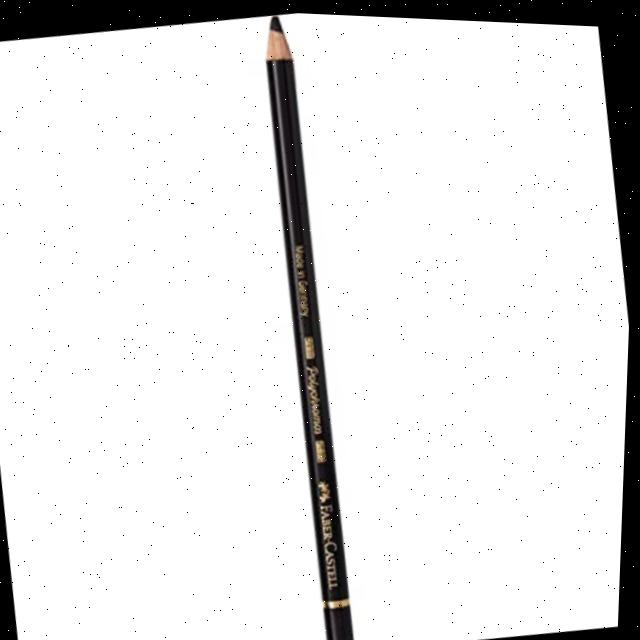pencil: (235, 9, 388, 640)
